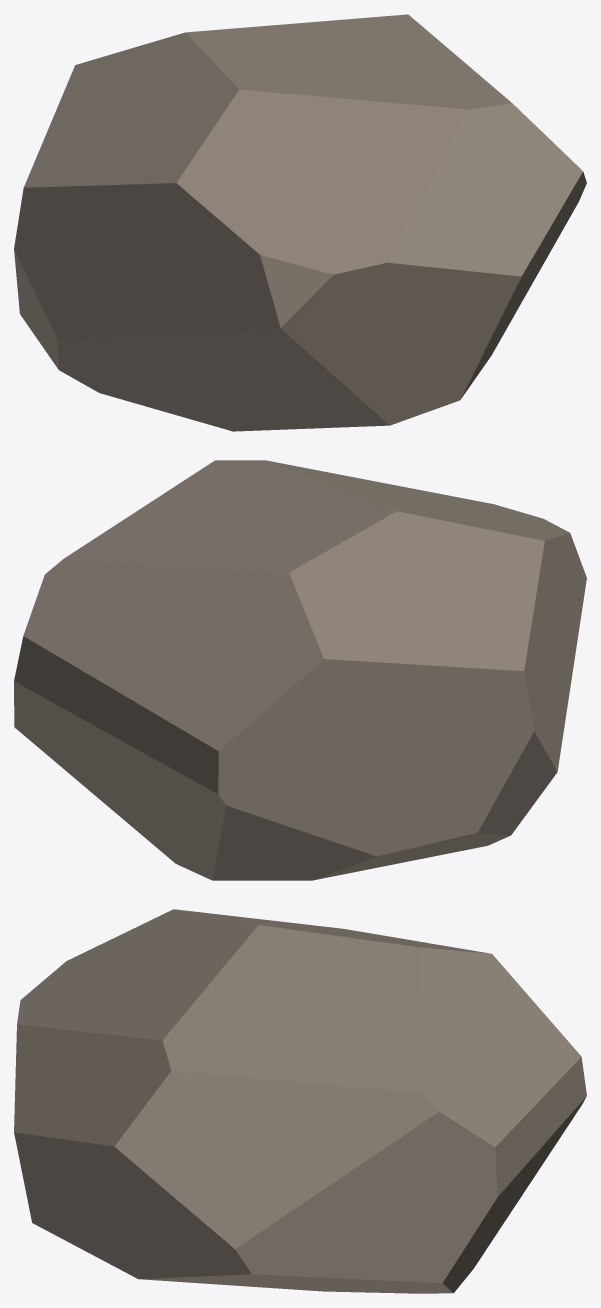
The model's file is Stone1.3.glb.
3 views of the same model, one above another, from view 1: azimuth 30°, elevation 25°; view 2: azimuth 150°, elevation 25°; view 3: azimuth 270°, elevation 25° (orthographic).
Parts seen in each view (by area): view 1: Stone1.3; view 2: Stone1.3; view 3: Stone1.3.
Boxes of the visible parts, bbox=[...] form: Stone1.3: bbox=[14, 14, 586, 431]; Stone1.3: bbox=[14, 460, 586, 880]; Stone1.3: bbox=[14, 909, 586, 1293].
Size of the model in its own units: 2.54 by 1.55 by 2.48.
